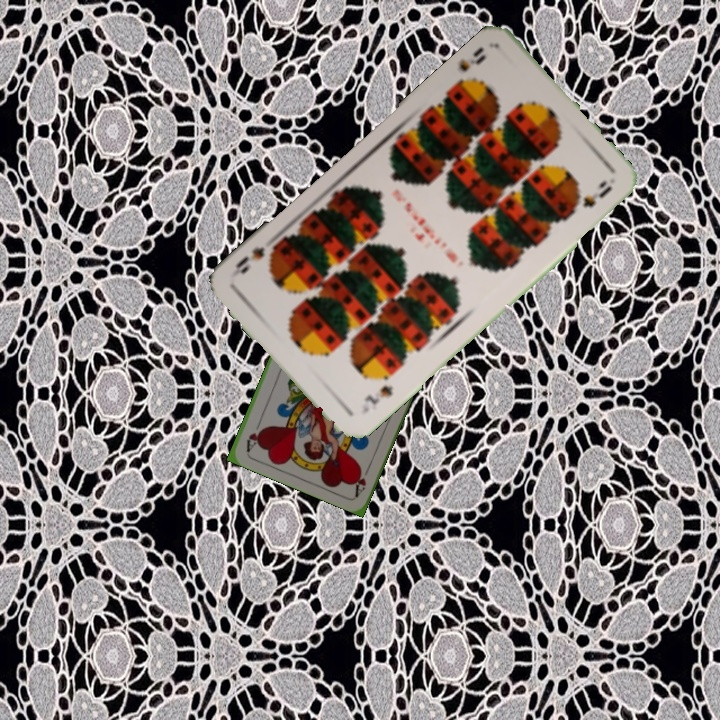HA: (351, 459, 374, 498)
S9: (449, 42, 489, 91), (358, 381, 396, 418)
